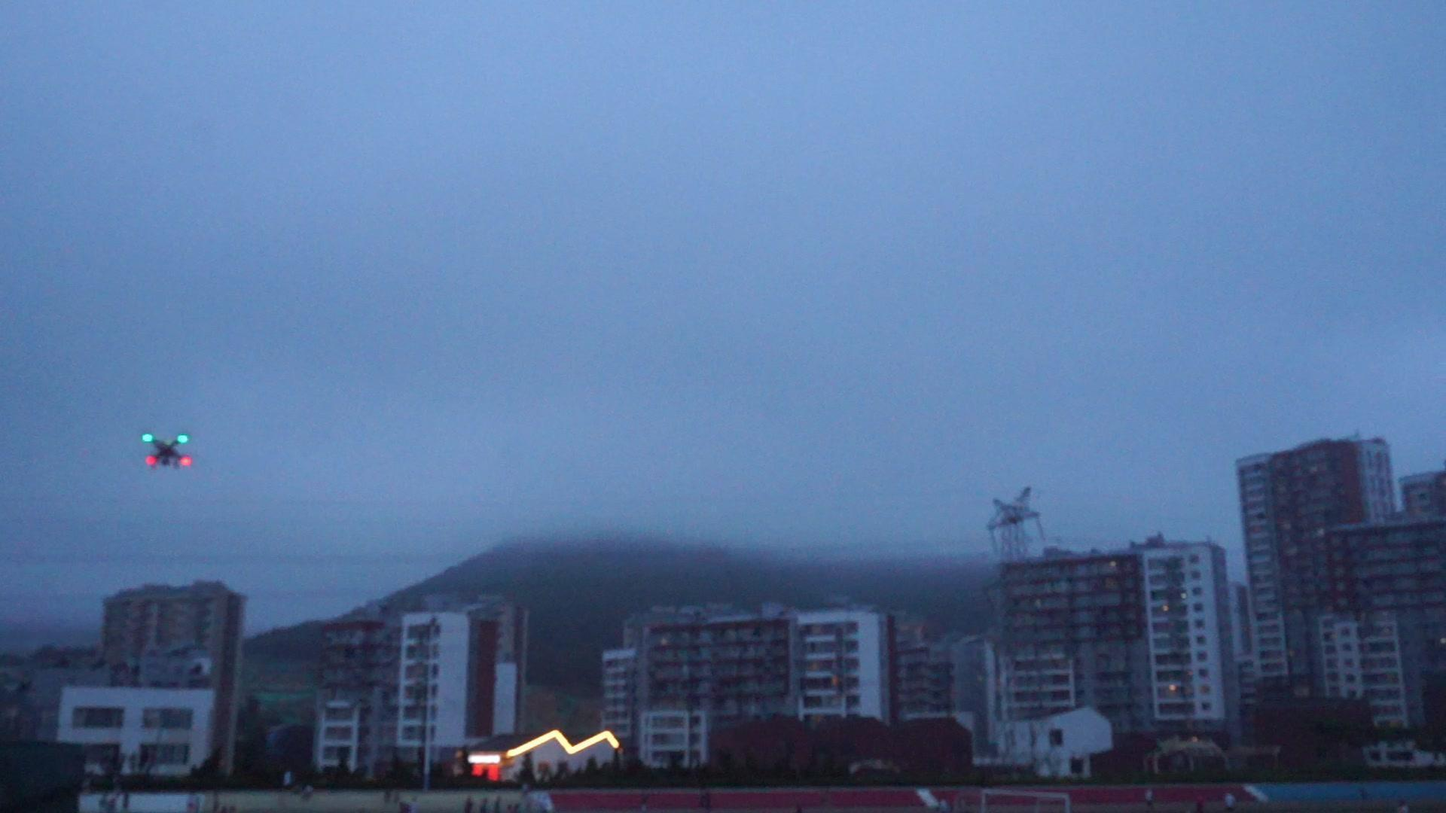UAV: (142, 434, 194, 470)
